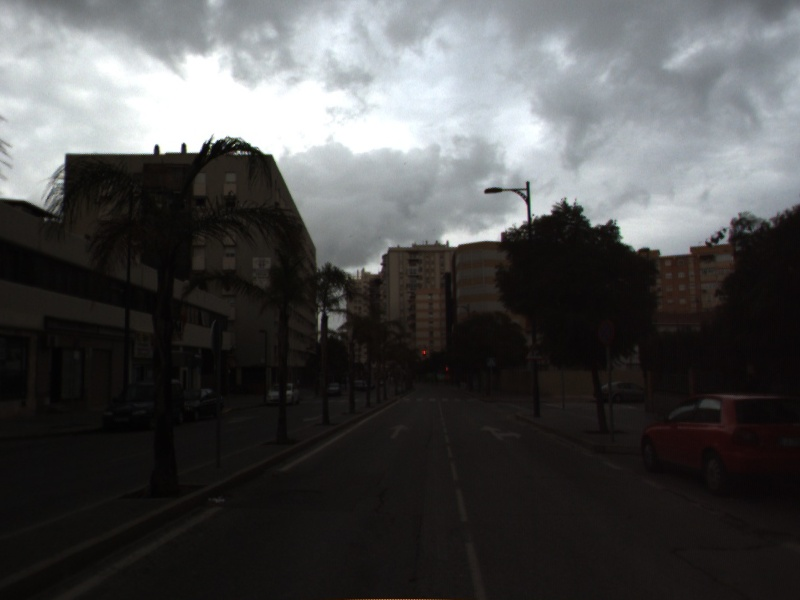STRAIGHT: (387, 422, 411, 441)
STRAIGHT_RIGHT: (478, 422, 523, 442)
